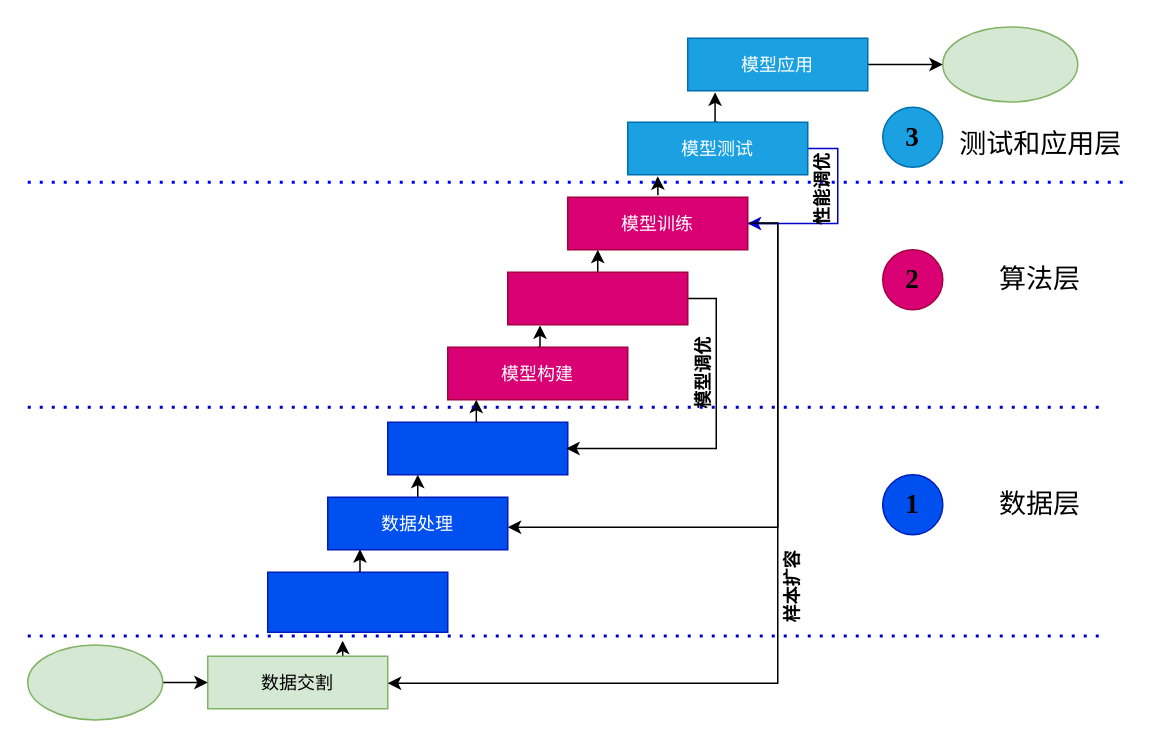
This 1152x746 diagram has some shape labels left out. Here are the shapes that lost their labels. From the top down, the centre of each, then its label:
At [1009,64]: "交付和维护".
At [597,298]: "模型评估".
At [477,448]: "特征提取".
At [357,601]: "数据理解".
At [94,682]: "开始实施".
